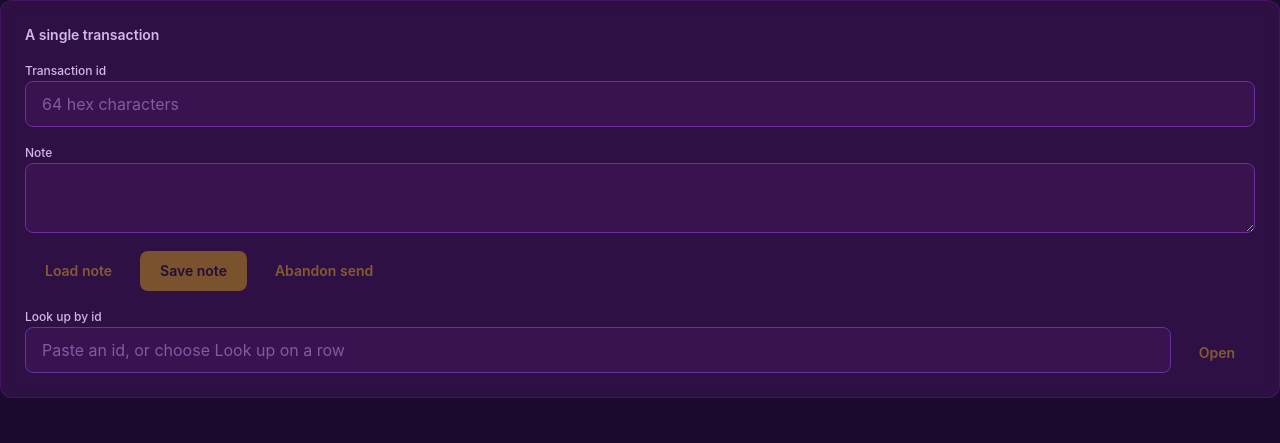
TxTools › shows a looked-up amount in SKL
The image size is (1280, 443).
Type "aa" into the field labelled "Look up by id". click: point(598, 350)
box: [25,327,1171,373]
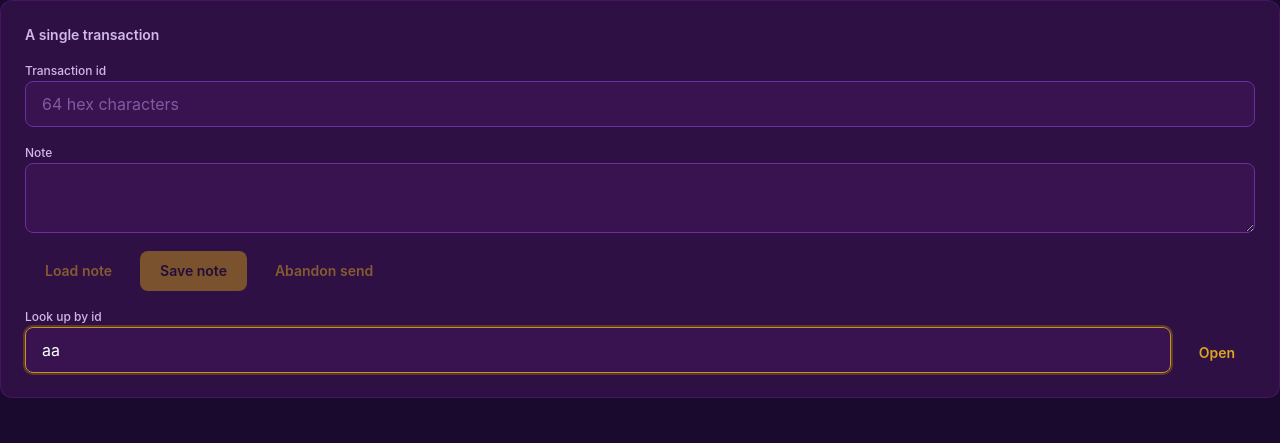
Click the button "Open". click: point(1217, 353)
box: [1179,333,1255,373]
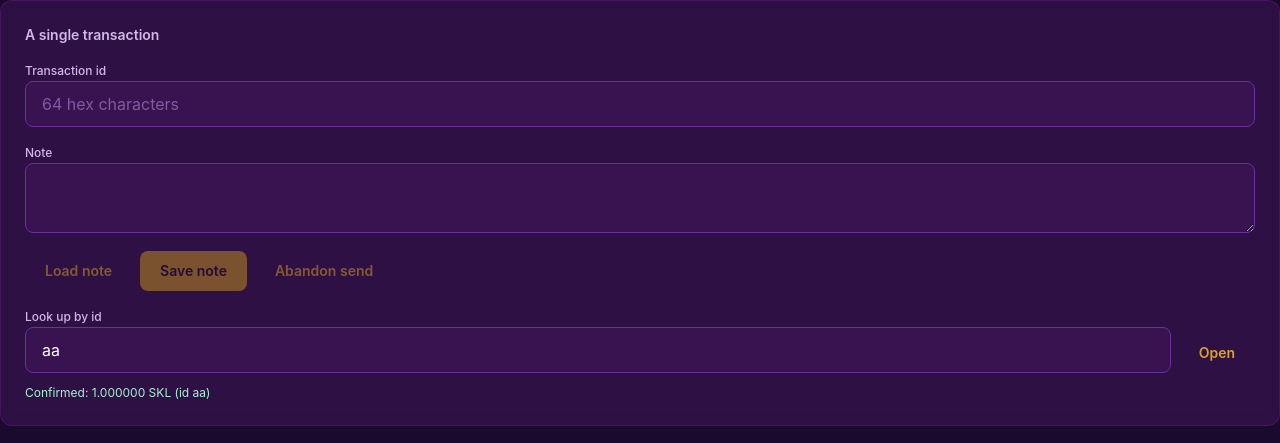
expect the text "Confirmed: 1.000000 SKL (id aa)" is shown: met, box [25,385,210,400]
